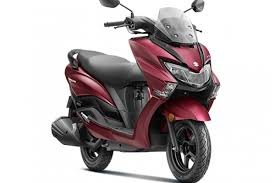motor: (70, 18, 225, 168)
